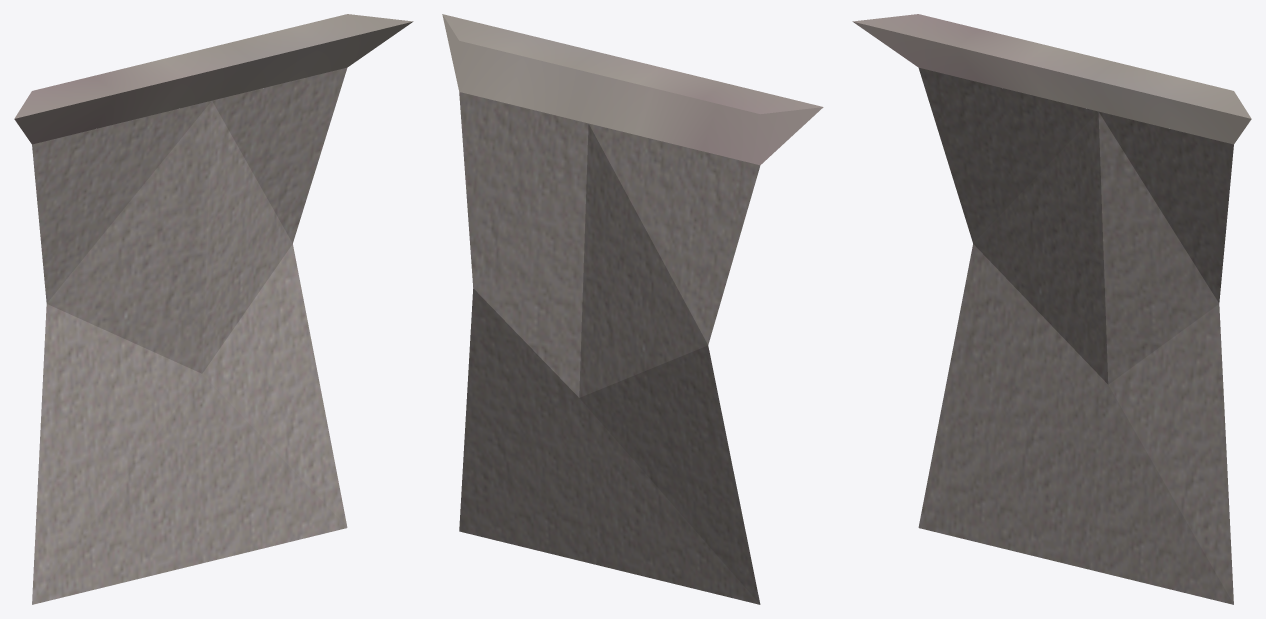
Rendered from W_A1_x [Marmor]_1396.glb.
The picture shows the model from 3 angles, left to right: view 1: azimuth 30°, elevation 25°; view 2: azimuth 150°, elevation 25°; view 3: azimuth 330°, elevation 25°; orthographic projection. The views are drawn at different scales.
Visible parts, largest first — view 1: polySurfaceShape1201, polySurfaceShape1203; view 2: polySurfaceShape1201, polySurfaceShape1203; view 3: polySurfaceShape1201, polySurfaceShape1203.
Part boxes in pixels (x1,y1,x2,y2): polySurfaceShape1201: [32, 68, 347, 604]; polySurfaceShape1203: [14, 14, 413, 144]; polySurfaceShape1201: [459, 92, 760, 604]; polySurfaceShape1203: [442, 14, 823, 165]; polySurfaceShape1201: [918, 68, 1233, 604]; polySurfaceShape1203: [852, 14, 1251, 144].
Bounding box in the file's own units: 0.3166 × 0.3891 × 0.0607.
2 materials, 2 textured.
